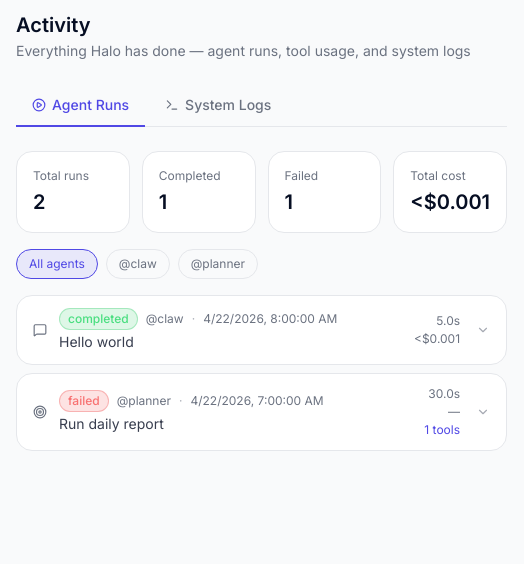
Test: F-016: Activity page (Agent Runs + System Logs) › expands run detail when clicked
The image size is (524, 564).
Step 1. Click the text "Hello world" → point(96, 342), box [59,333,134,350]
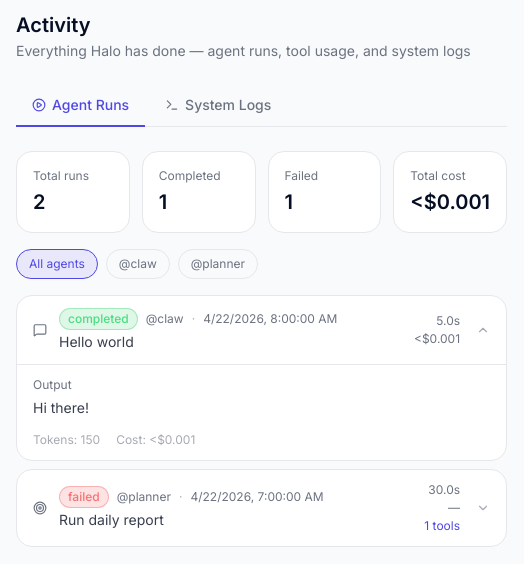
Expected: the text "Hi there!" is shown, [33,399,89,416]
